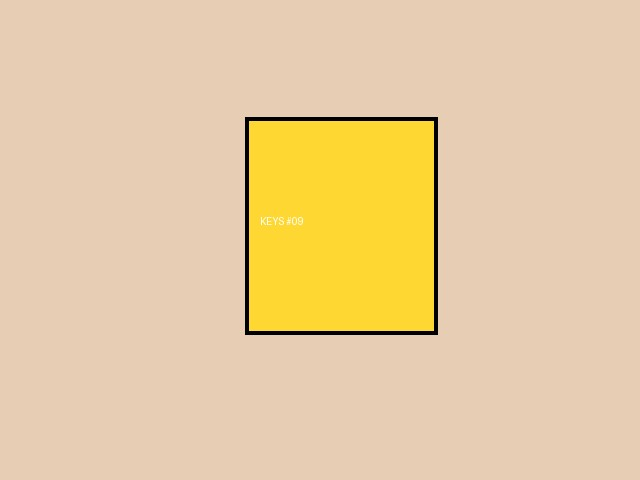keys: (245, 117, 437, 334)
